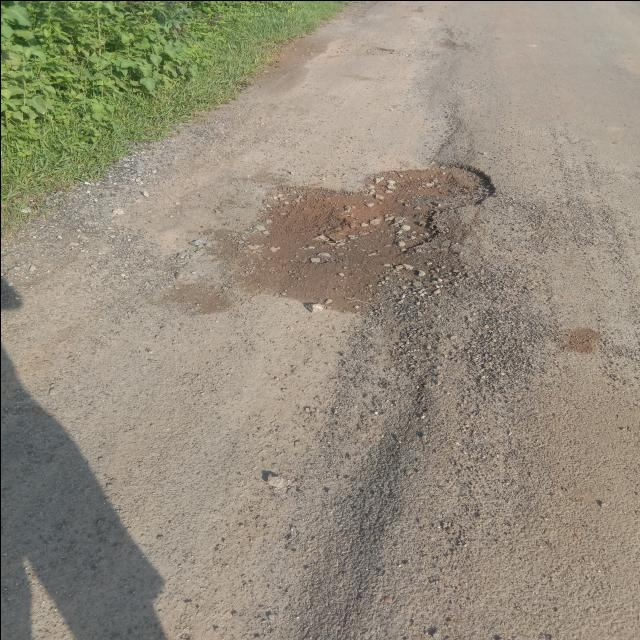potholes: (246, 158, 498, 267)
